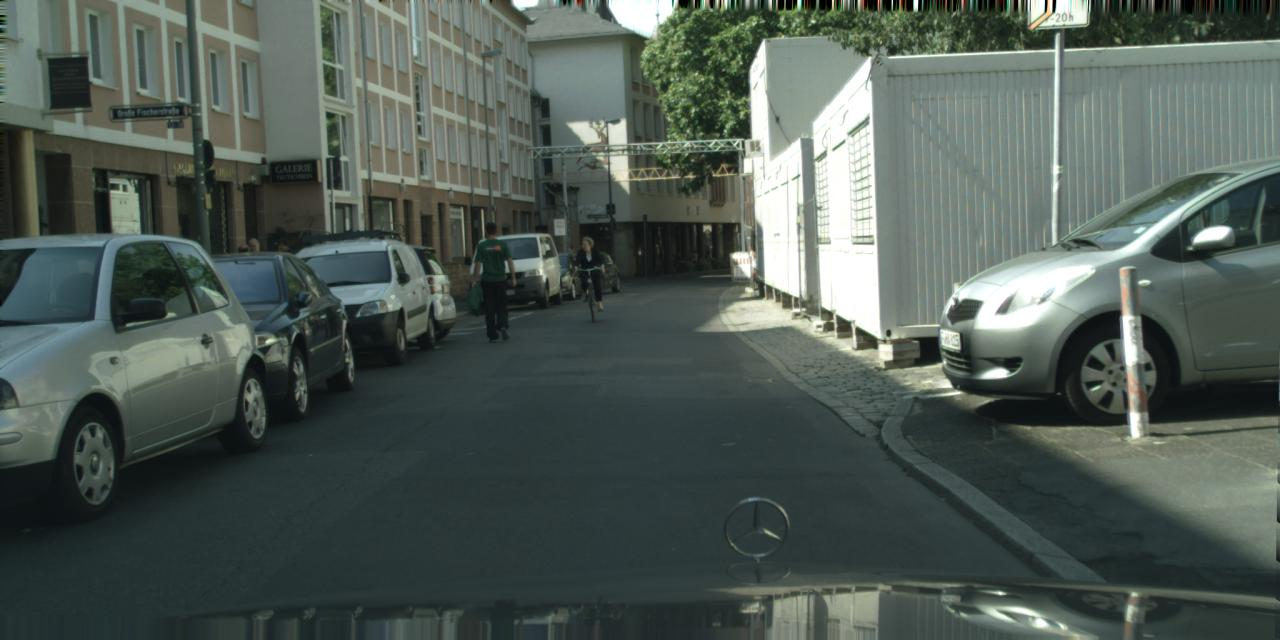ped: (471, 222, 518, 340), (234, 238, 276, 340), (222, 245, 262, 341), (270, 238, 308, 333), (575, 237, 602, 303)
